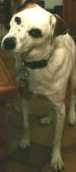dog: (0, 0, 76, 144)
